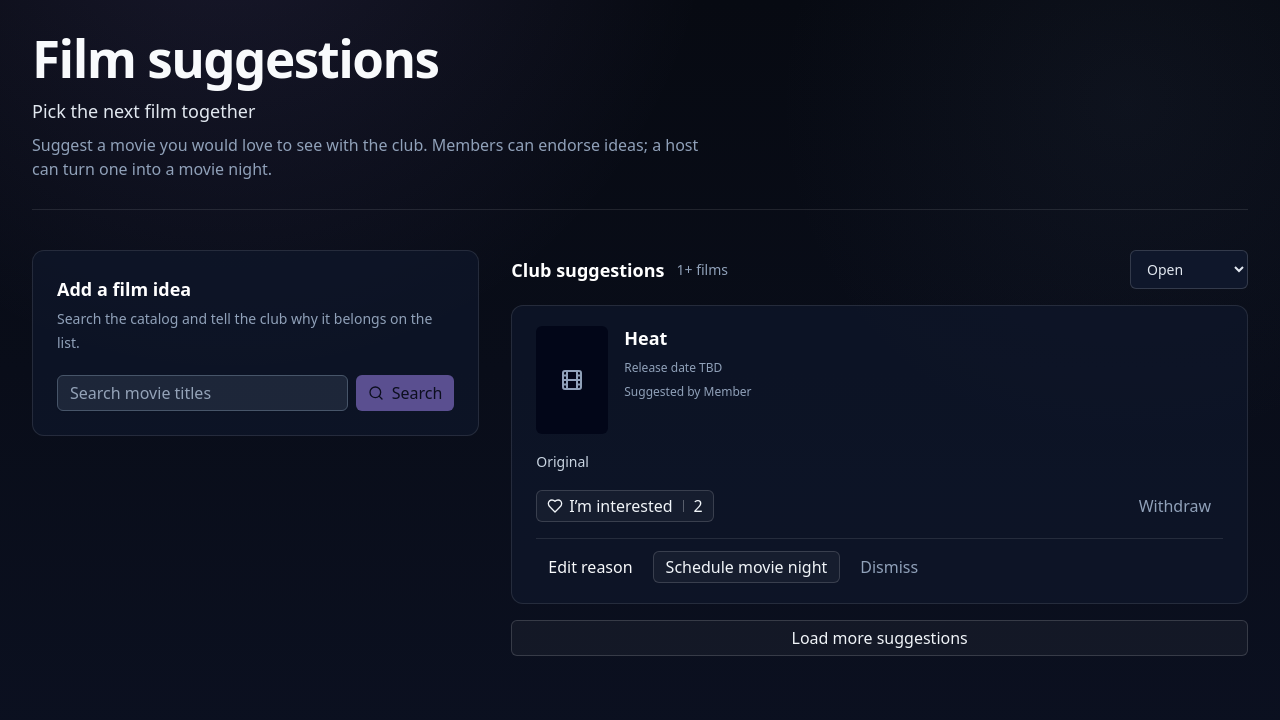
Scenario: film proposal controls › paginates and retains attribution and event links for scheduled suggestions
Click the button "Load more suggestions".
click(880, 638)  # box [511,620,1248,656]
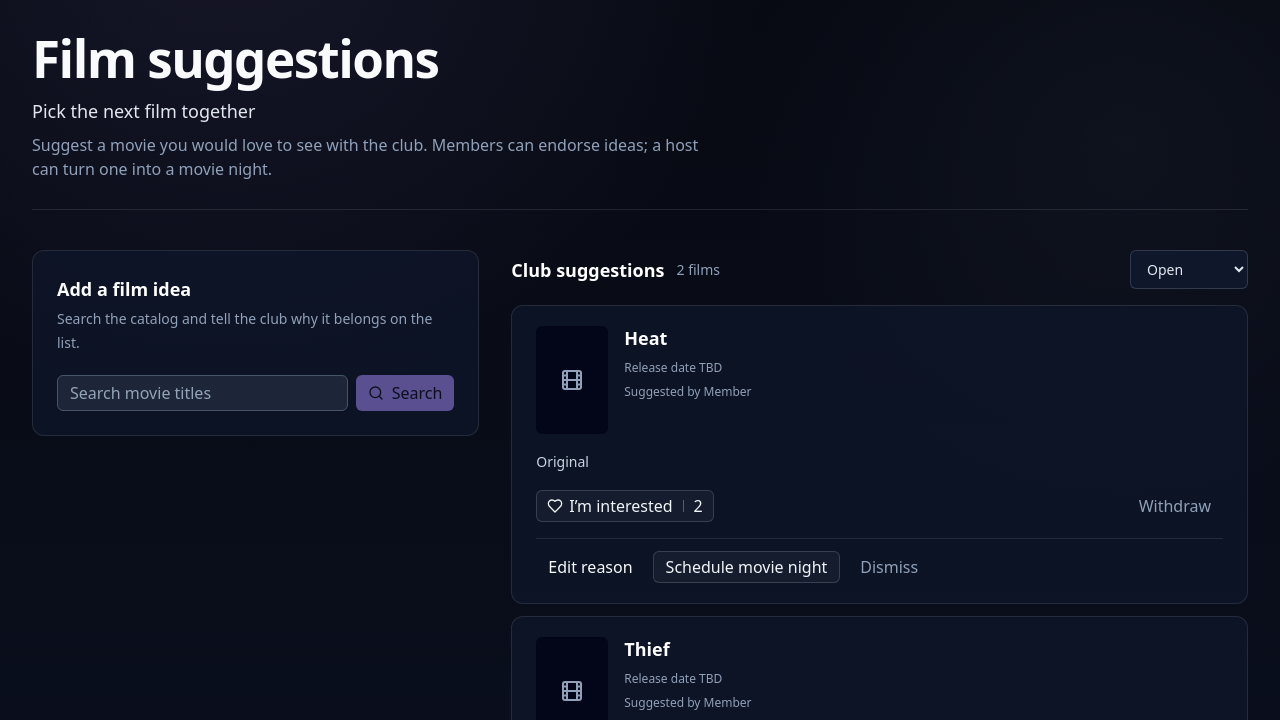
Expected: the heading "Thief" is shown, [624,637,670,661]
Select "Scheduled" in the dropdown named "Suggestion status" at {"x": 1189, "y": 270}, box [1130,250,1248,289]
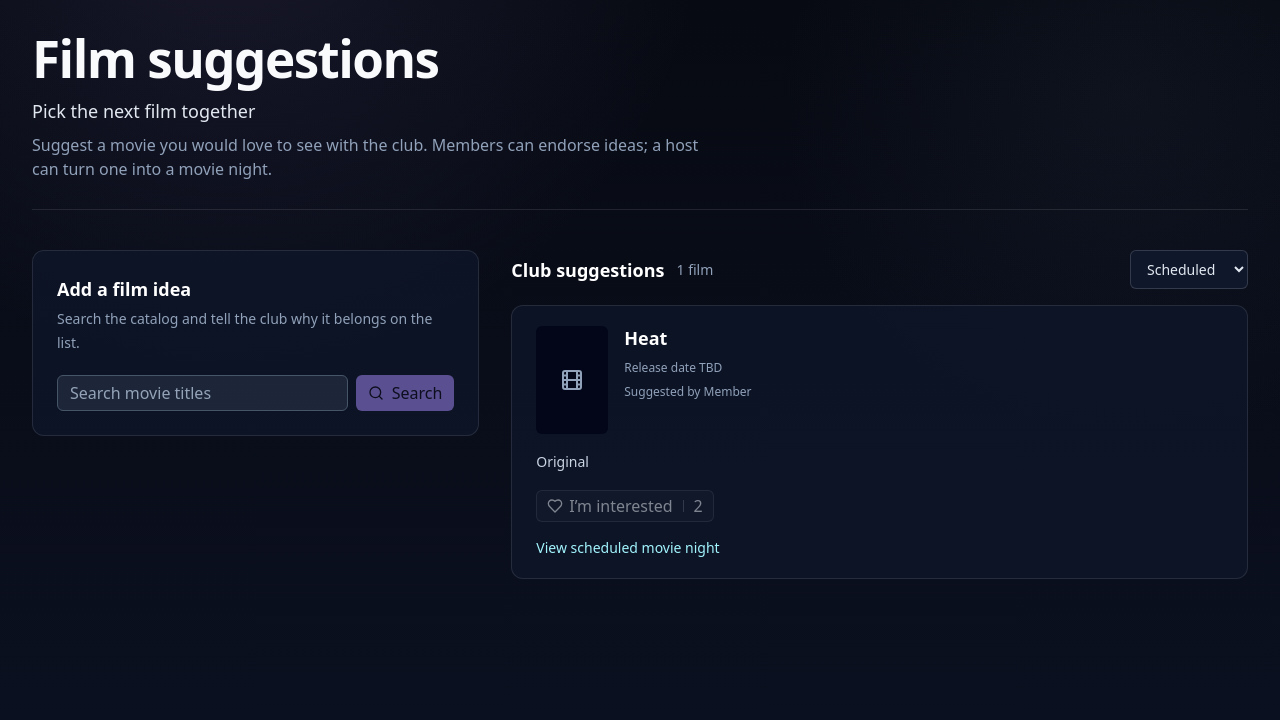
Expected: the text "Suggested by Member" is shown, [624,383,752,400]
Expected: the button "Schedule movie night" is gone
